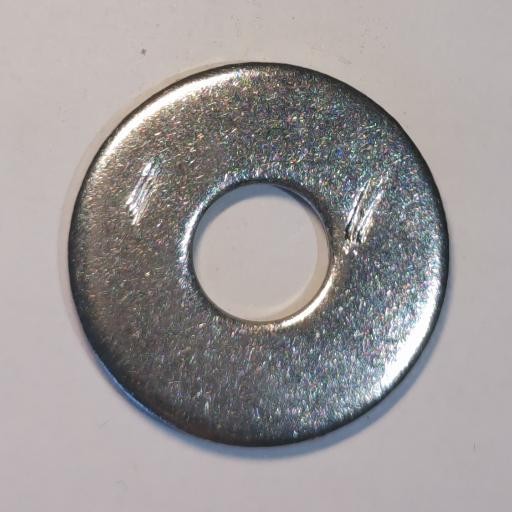scratch: (342, 179, 382, 255), (126, 163, 161, 225)
